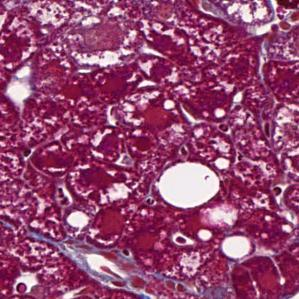steatosis: (156, 158, 220, 209)
